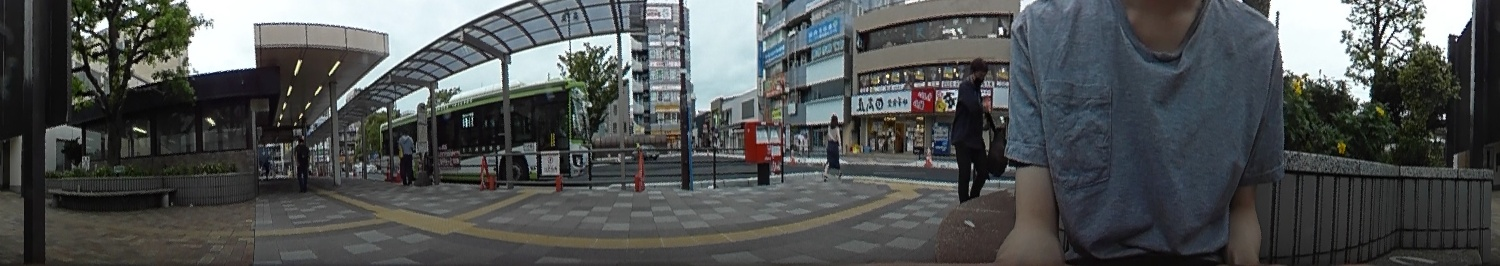difficult_person: (292, 137, 310, 189)
person: (953, 57, 995, 197), (823, 113, 843, 179), (398, 128, 415, 182)
